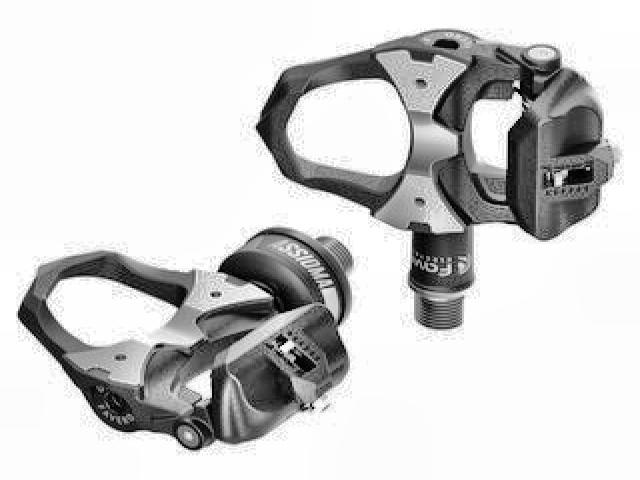pedal: (249, 24, 624, 336), (12, 226, 375, 451)
